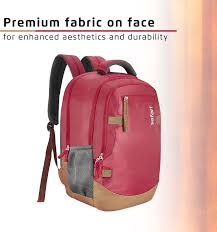backpack: (36, 53, 161, 211)
